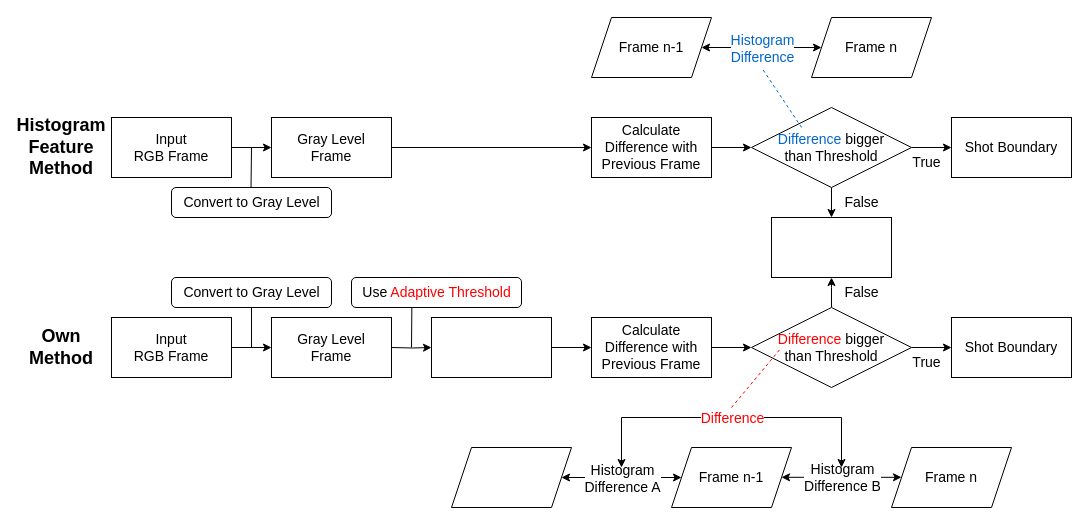
Image size: 1089x525. Some labels were removed from this diagram. Here are the shapes that lost their labels. From the top down, the centre of each, then its label:
At (831,247): "Not Shot Boundary".
At (491,347): "Binary Frame".
At (511,477): "Frame n-2".
